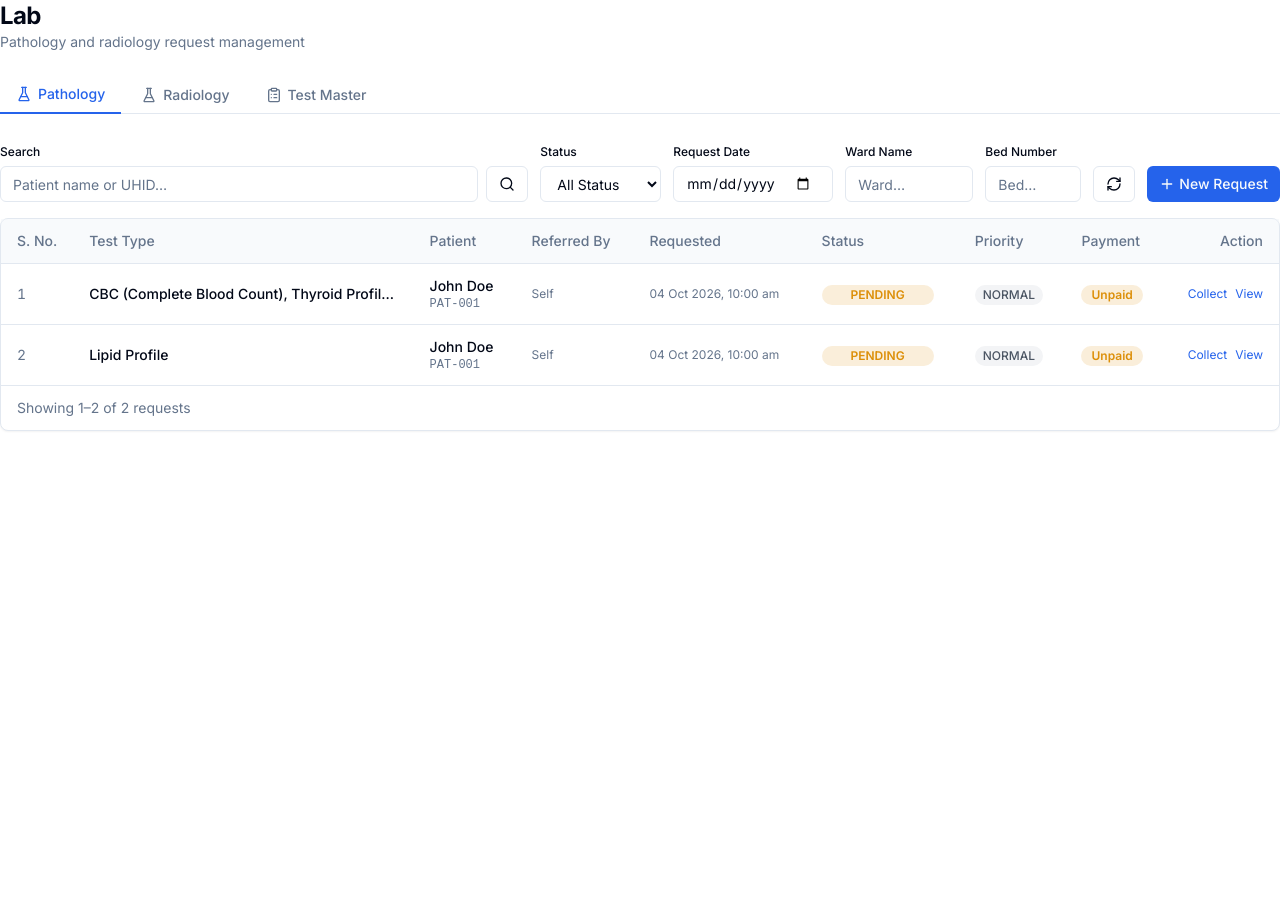
Test: Lab View — multiple tests › lists every imaging type on a radiology request
The width and height of the screenshot is (1280, 900).
Click the button "Radiology": coordinates (185, 94) x1=125 y1=76 x2=246 y2=113
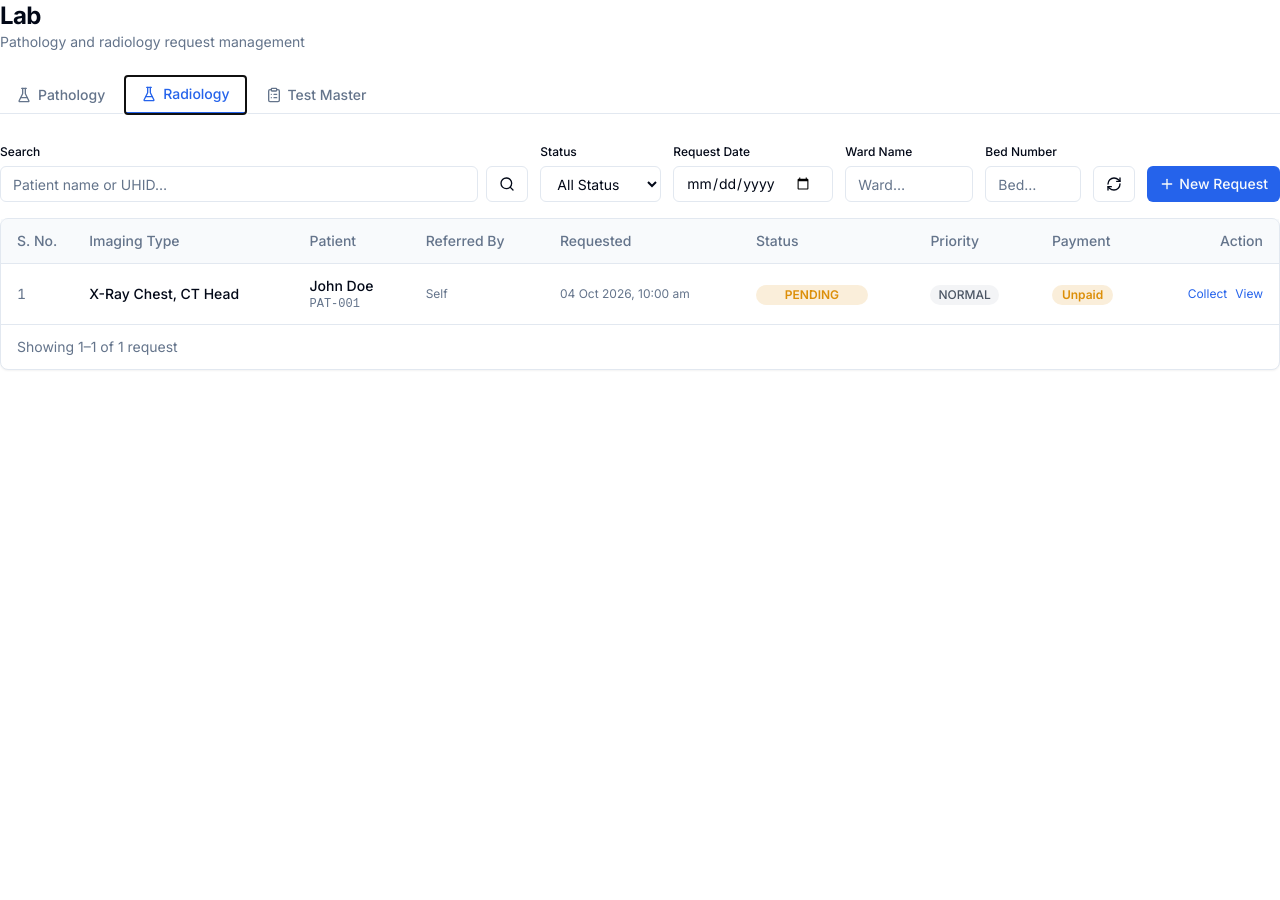
Click the button "View": coordinates (1249, 294) x1=1235 y1=286 x2=1263 y2=302
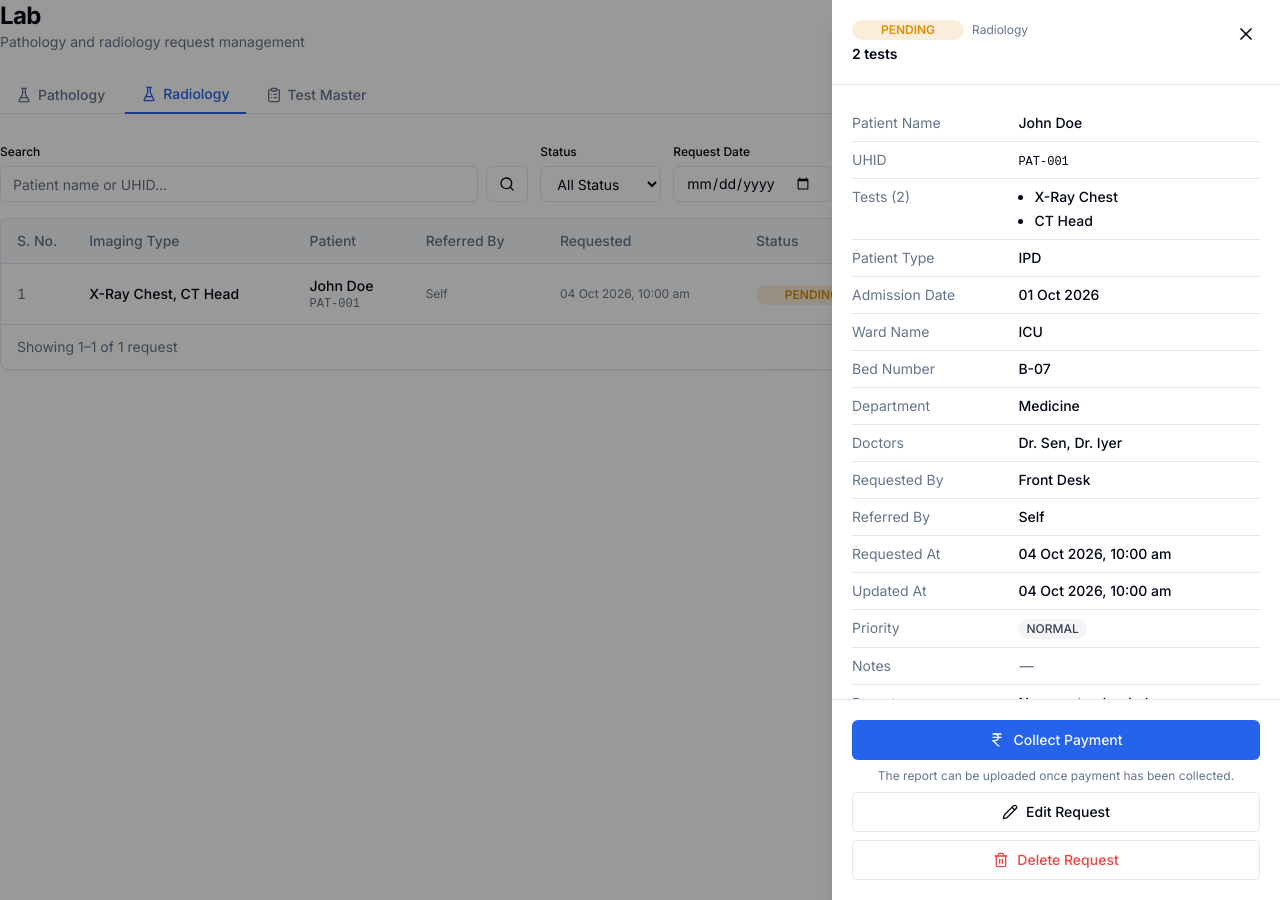
Expected: the text "2 tests" is shown, x1=852 y1=45 x2=898 y2=62
Expected: the text "IPD" is shown, x1=1018 y1=249 x2=1041 y2=266
